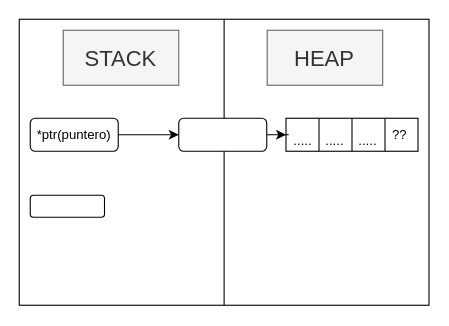
Image size: 449x326. Some labels were removed from this diagram. Each missing label, with the centre of its shape:
"linea(Vector)" belongs at pixel 222 134.
"tamaño" belongs at pixel 67 205.
